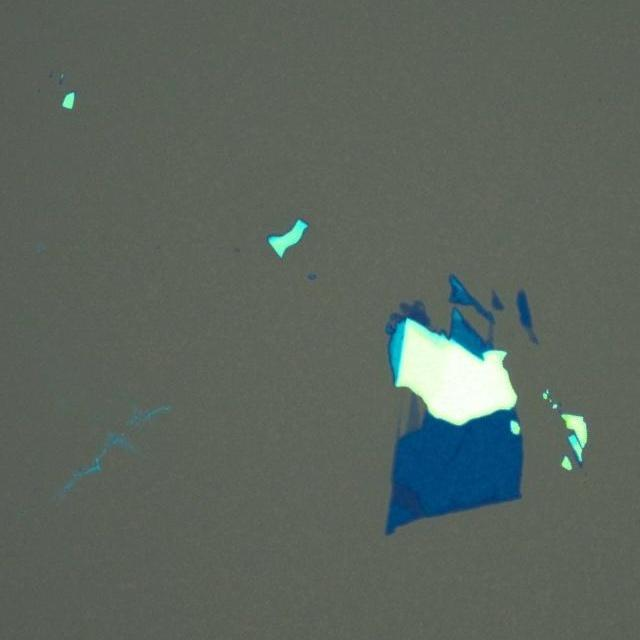monolayer-eWW4: (404, 390, 420, 432), (488, 322, 494, 342), (527, 326, 534, 341)
